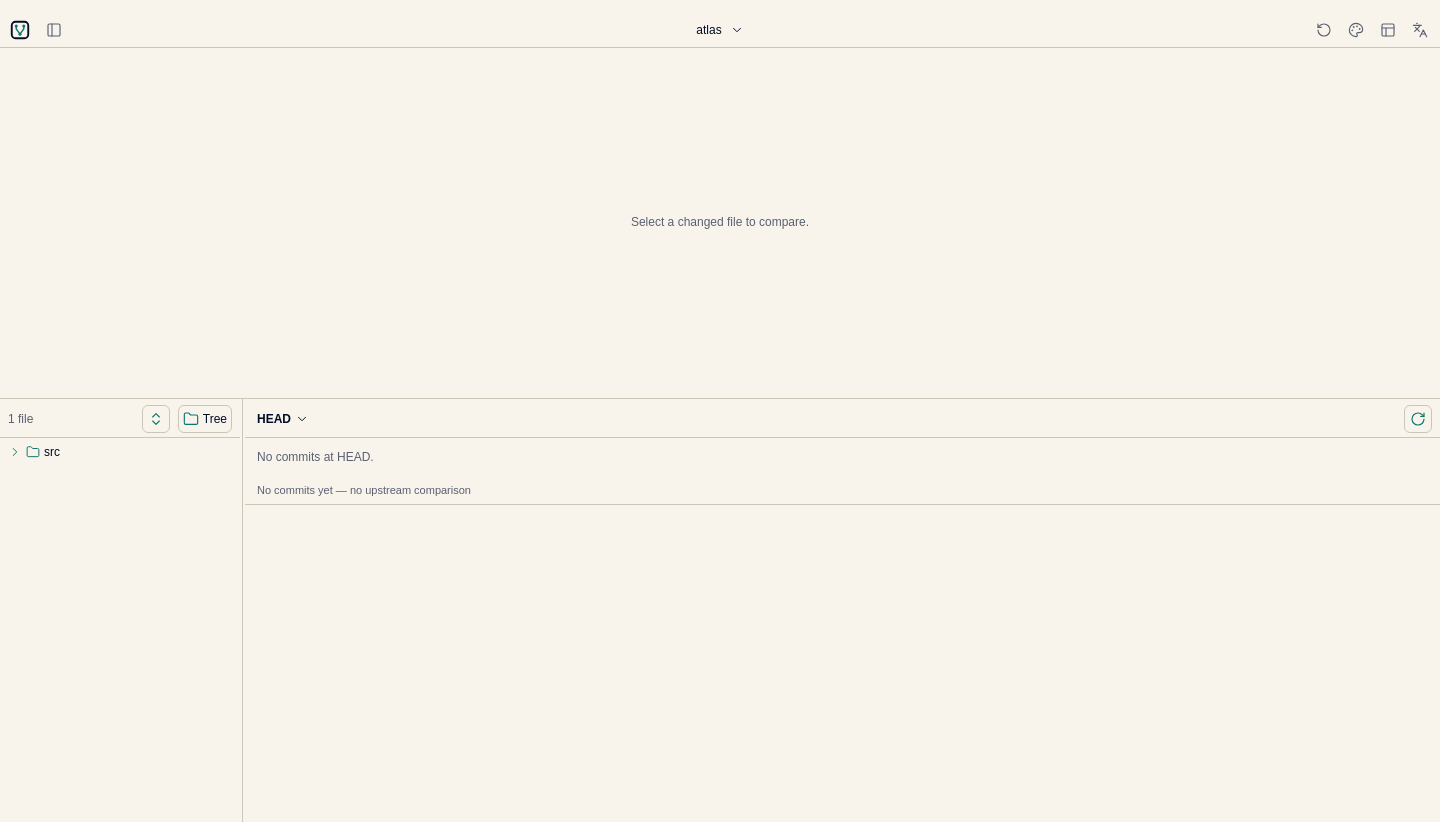
Scenario: folder controls and sidebar collapse preserve nested directory expansion
What coordinates should you click on to do the following:
click the button named "Expand sidebar"
I would click on:
 (54, 30)
Its box is [40,16,68,44].
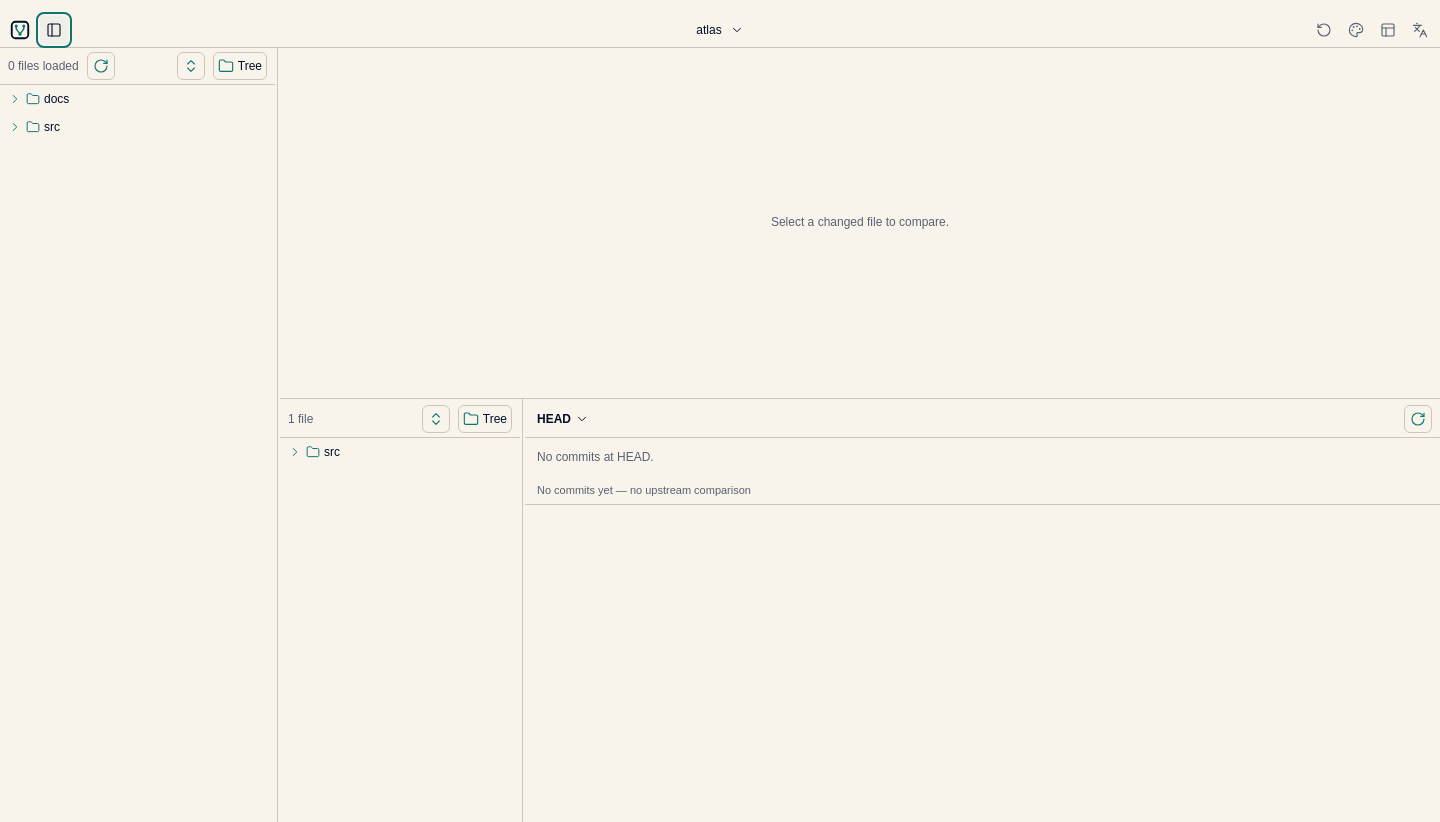
Expected: the button with aria-label "Expand docs" is shown, [4,85,271,113]
What coordinates should you click on to do the following:
click the button named "Expand all" next to "0 files loaded"
I would click on:
 (191, 66)
Its box is [177,52,205,80].
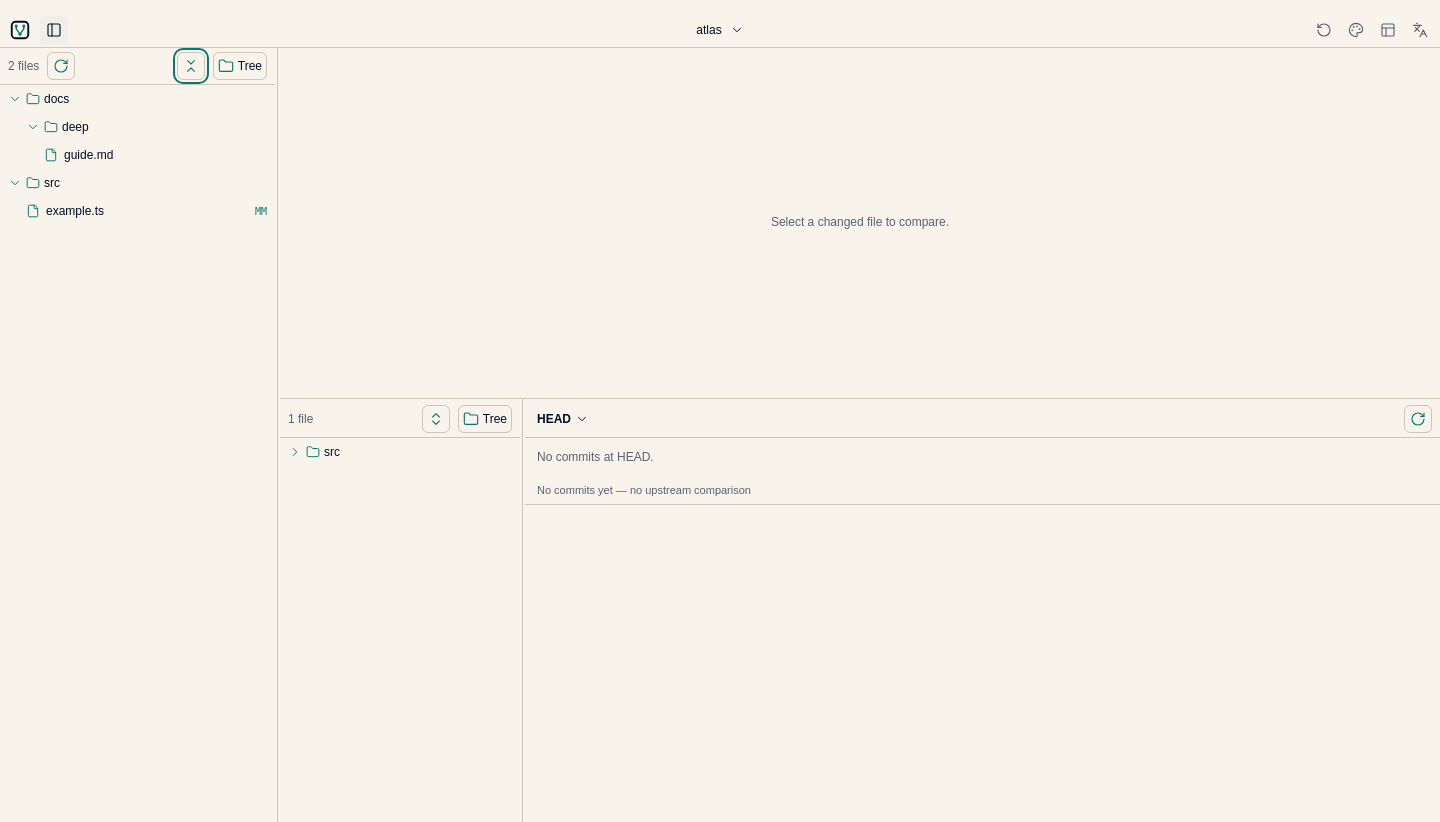
Expected: the button with aria-label "Review docs/deep/guide.md" is shown, [40,141,271,169]
What coordinates should you click on to do the following:
click the button named "Collapse all"
I would click on:
 (191, 66)
Its box is [177,52,205,80].
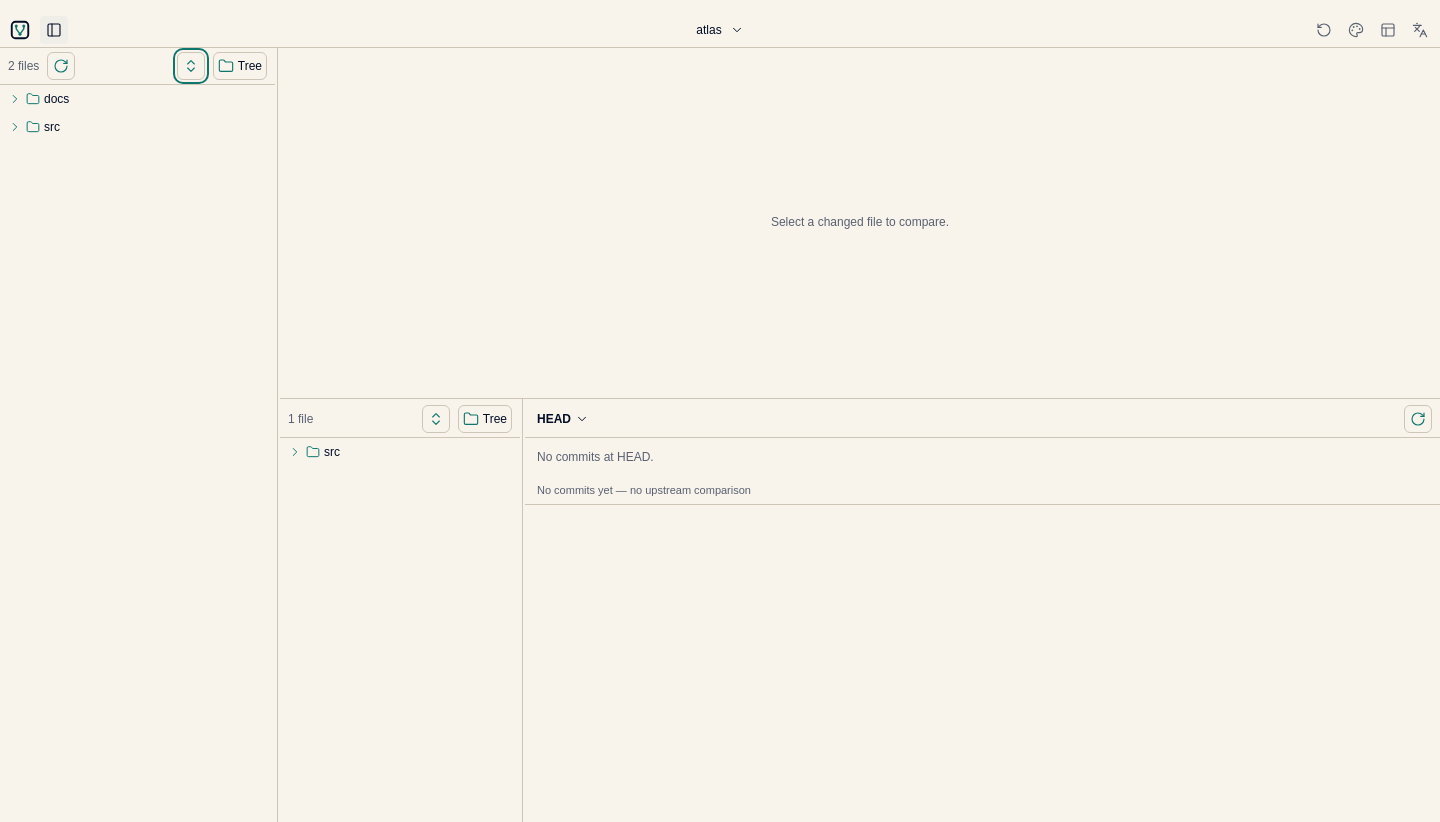
What coordinates should you click on to do the following:
click the button named "Collapse sidebar"
I would click on:
 (54, 30)
Its box is [40,16,68,44].
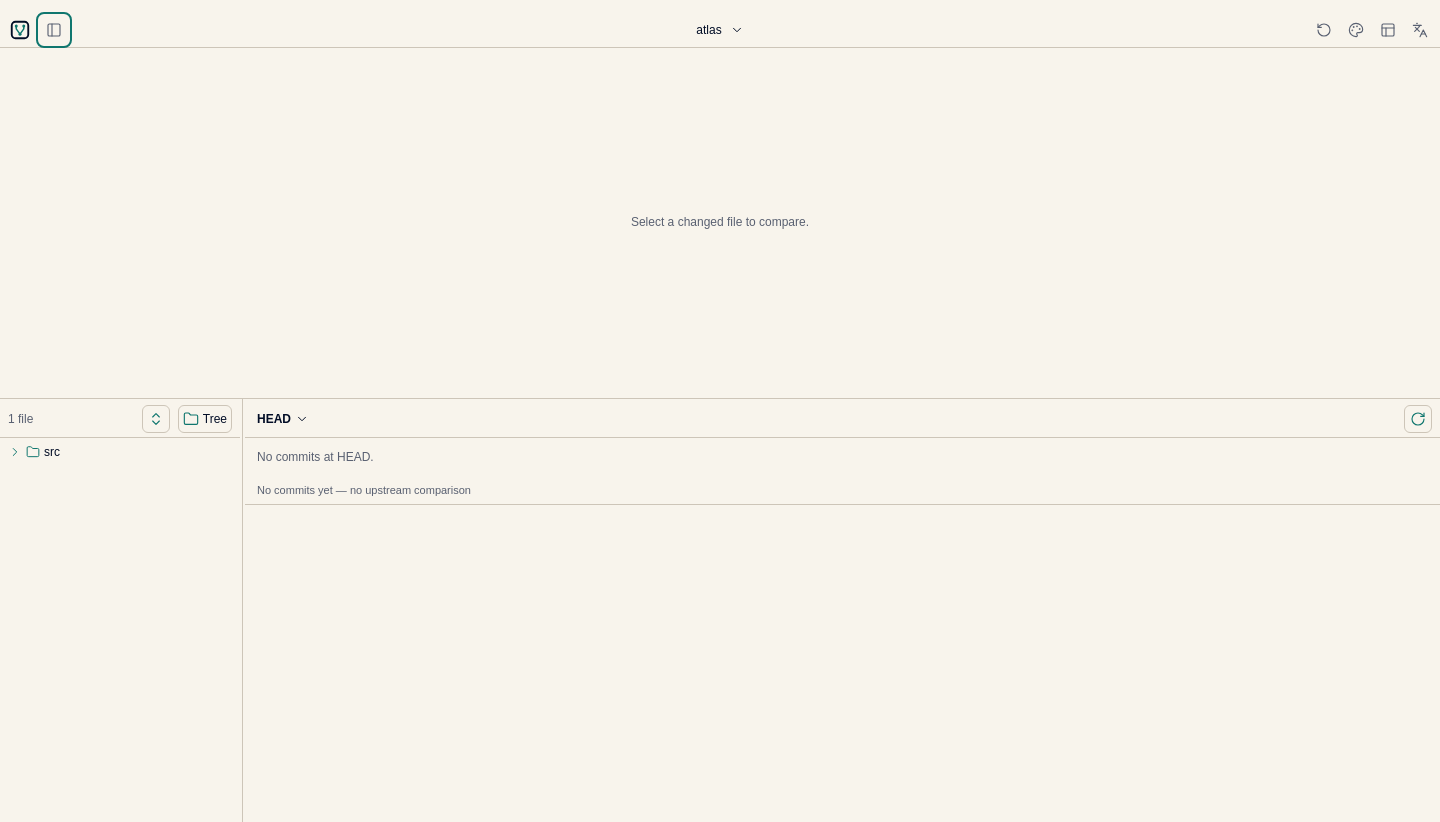
What coordinates should you click on to do the following:
click the button named "Expand sidebar"
I would click on:
 (54, 30)
Its box is [40,16,68,44].
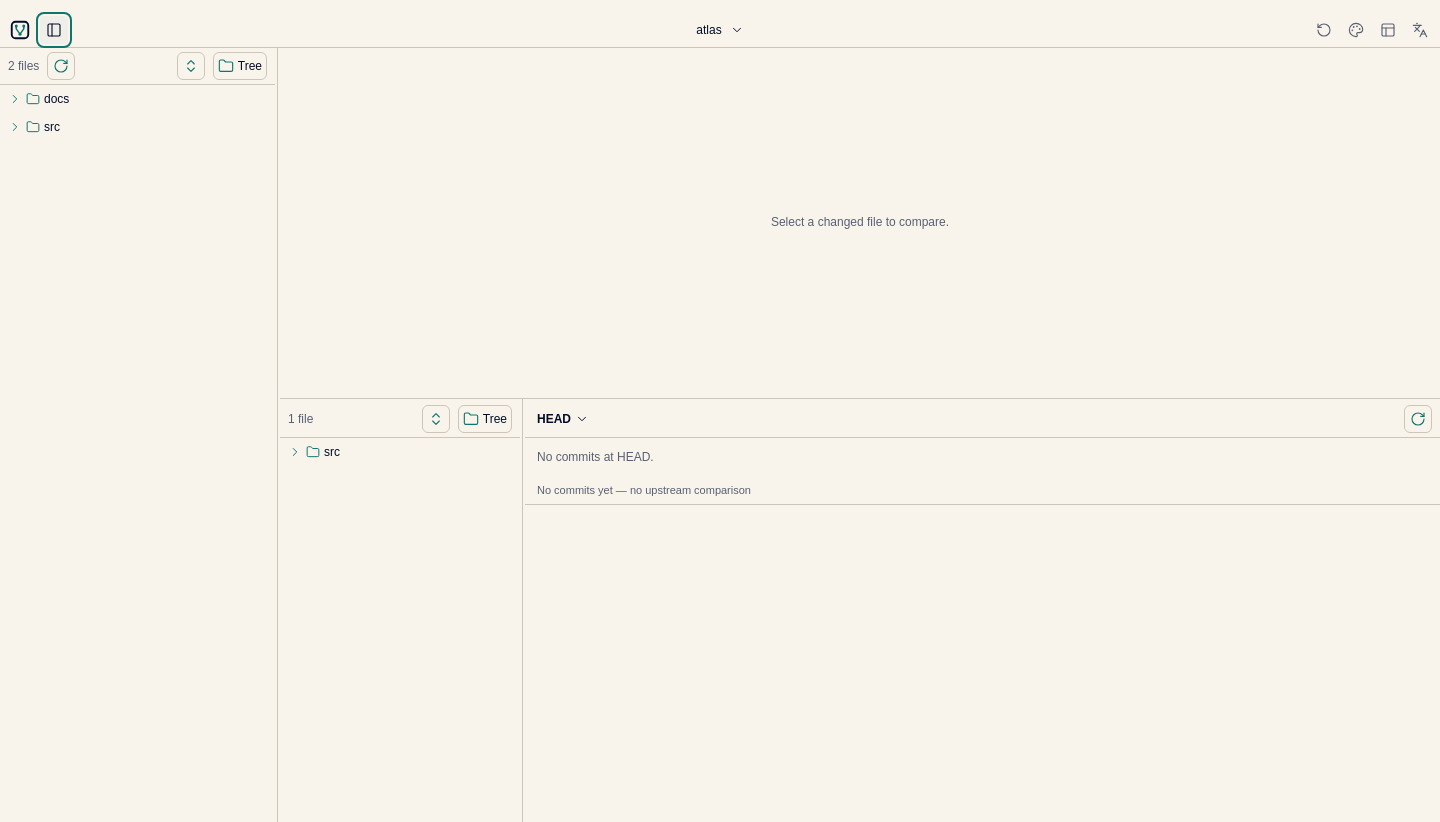
Expected: the button with aria-label "Expand docs" is collapsed, [4,85,271,113]
What coordinates should you click on to do the following:
click the button named "Expand all" next to "2 files"
I would click on:
 (191, 66)
Its box is [177,52,205,80].
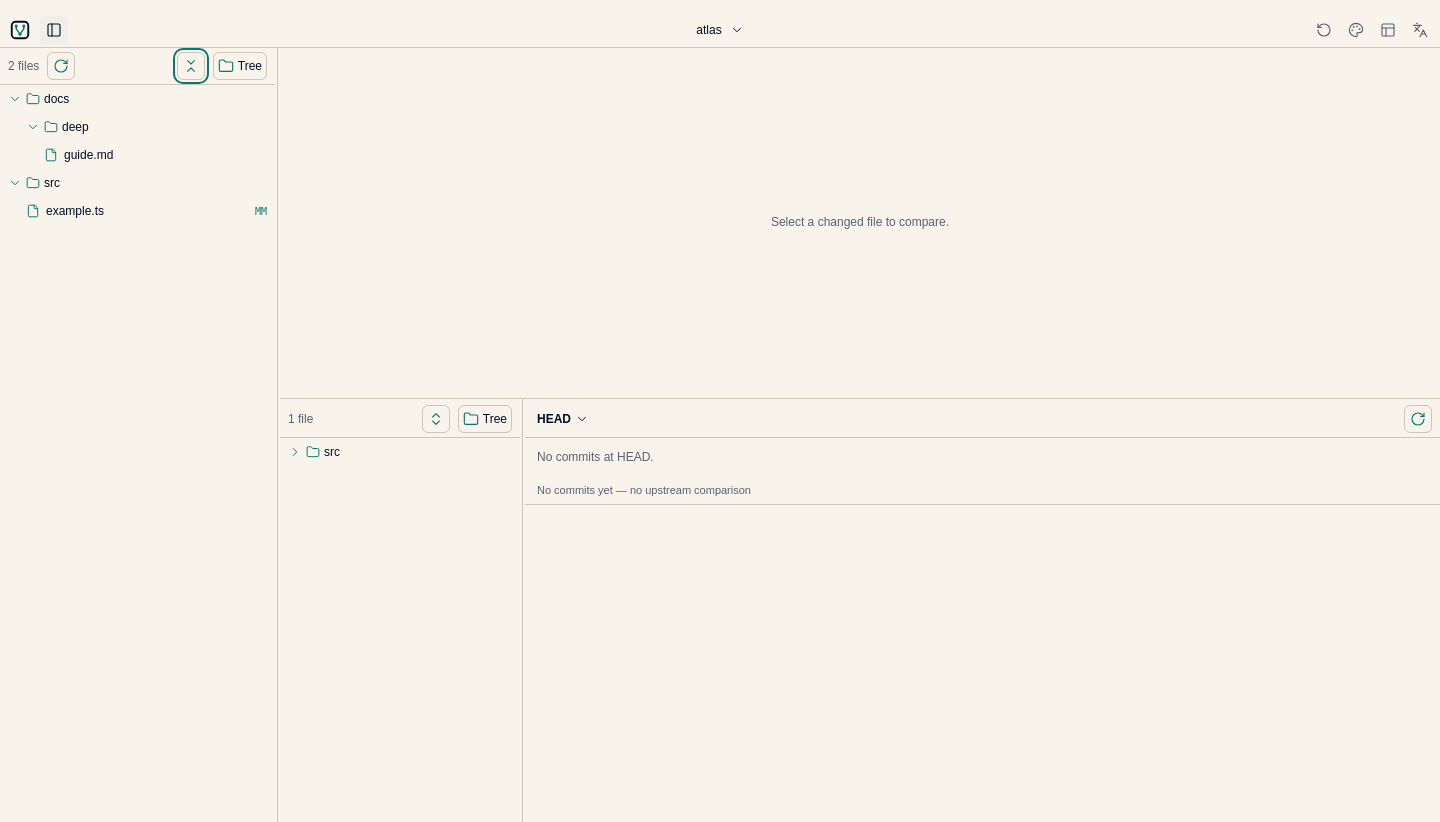
Expected: the button with aria-label "Review docs/deep/guide.md" is shown, [40,141,271,169]
